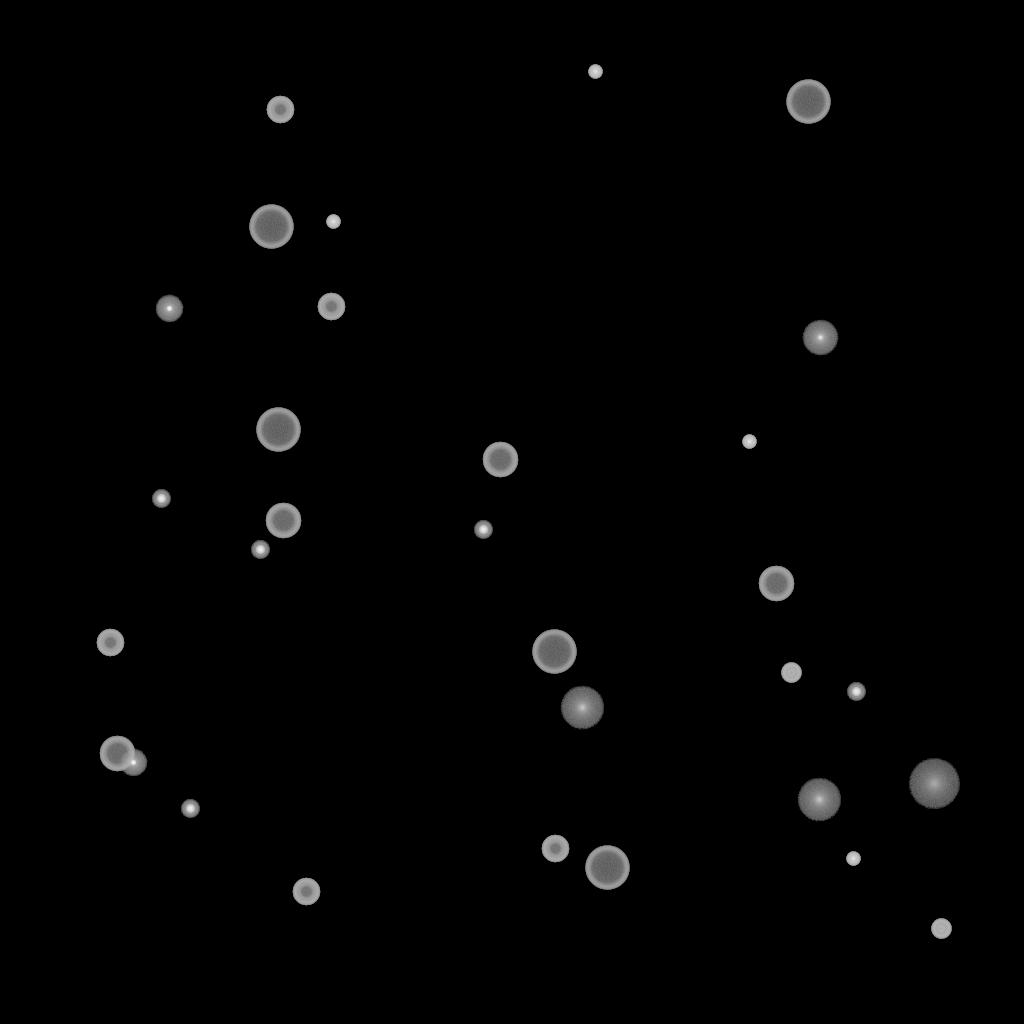depth:-10: (119, 749, 147, 777), (155, 295, 183, 323)
depth:-20: (181, 800, 199, 818), (474, 521, 492, 539), (847, 683, 865, 701), (251, 541, 269, 559), (152, 490, 170, 508)
depth:-30: (588, 65, 602, 79), (846, 852, 860, 866), (742, 435, 756, 449), (326, 215, 340, 229)
depth:-40: (781, 663, 801, 683), (931, 919, 951, 939)
depth:-50: (266, 96, 294, 124), (317, 293, 345, 321), (541, 835, 569, 863), (96, 629, 124, 657), (292, 878, 320, 906)
depth:-60: (758, 566, 794, 602), (265, 503, 301, 539), (482, 442, 518, 478), (99, 736, 135, 772)
depth:-70: (256, 408, 300, 452), (585, 846, 629, 890), (786, 80, 830, 124), (532, 630, 576, 674), (249, 205, 293, 249)
depth:0: (802, 320, 838, 356)
depth:10: (797, 778, 841, 822), (560, 686, 604, 730)
depth:20: (908, 759, 960, 809)
